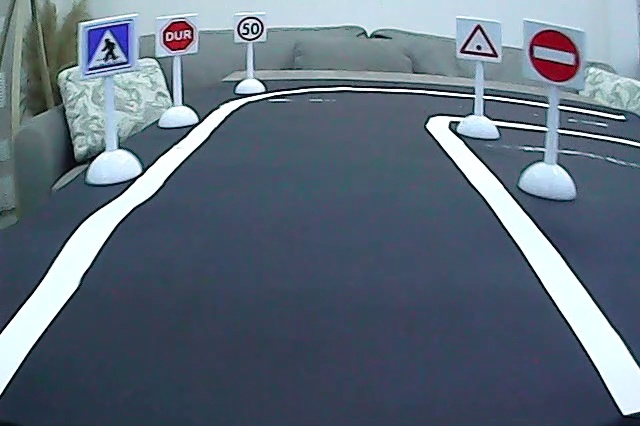do not enter: (526, 25, 583, 86)
green light: (458, 20, 501, 60)
pedestrian crossing: (84, 20, 134, 73)
speed limit 50: (236, 14, 267, 43)
stop sign: (160, 16, 198, 54)
